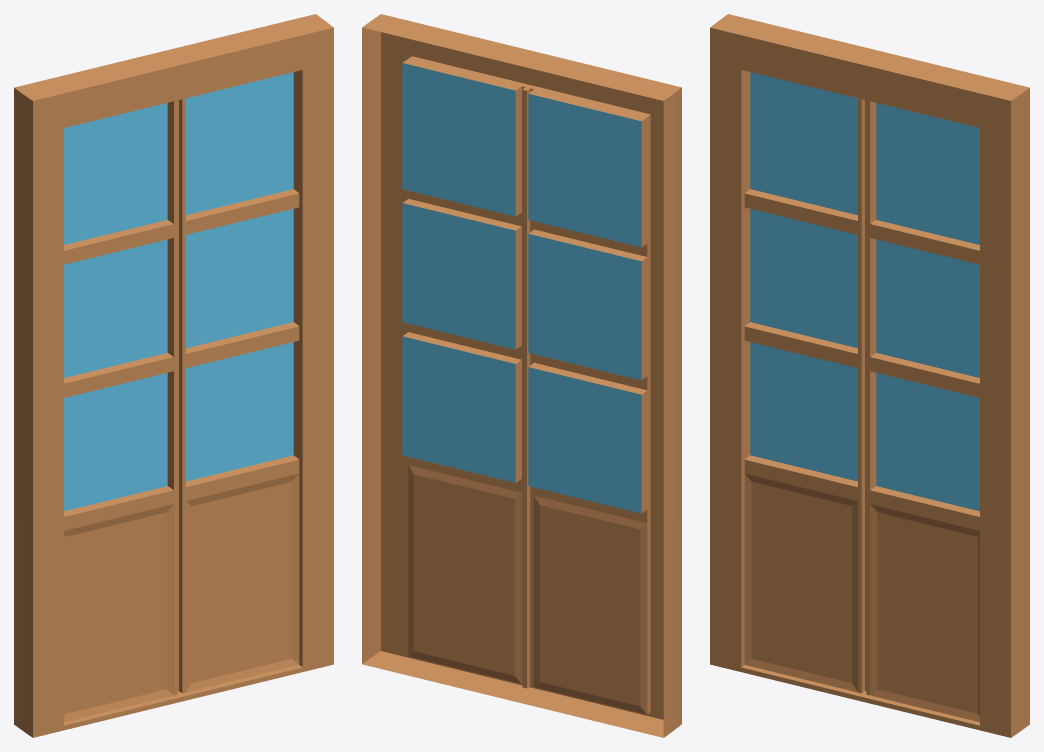
File: DoorType1.fbx
3 renders of one model, left to right at view 1: azimuth 30°, elevation 25°; view 2: azimuth 150°, elevation 25°; view 3: azimuth 330°, elevation 25°, orthographic.
Parts seen in each view (by area): view 1: DoorType1; view 2: DoorType1; view 3: DoorType1.
Part boxes in pixels (x1,y1,x2,y2): DoorType1: [14, 14, 333, 737]; DoorType1: [362, 14, 681, 737]; DoorType1: [710, 14, 1029, 737].
Size of the model in its own units: 1.45 by 0.1539 by 2.93.
